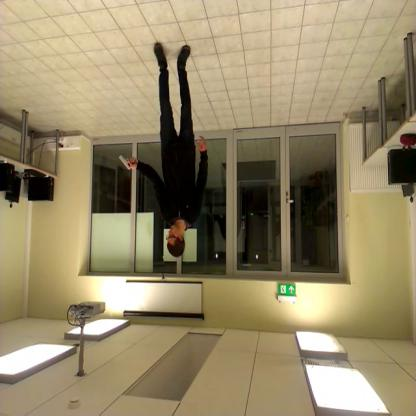Pistol: (118, 145, 138, 175)
